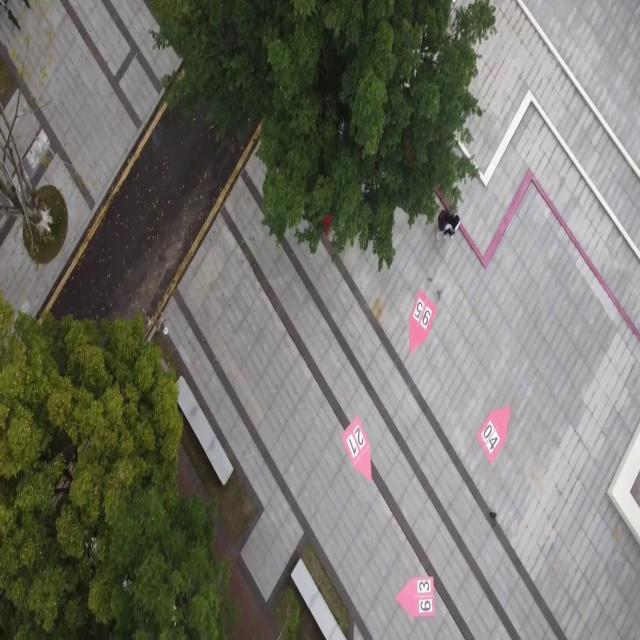-sign-: (472, 396, 519, 475), (396, 557, 444, 625), (336, 416, 380, 487), (405, 289, 437, 356)
